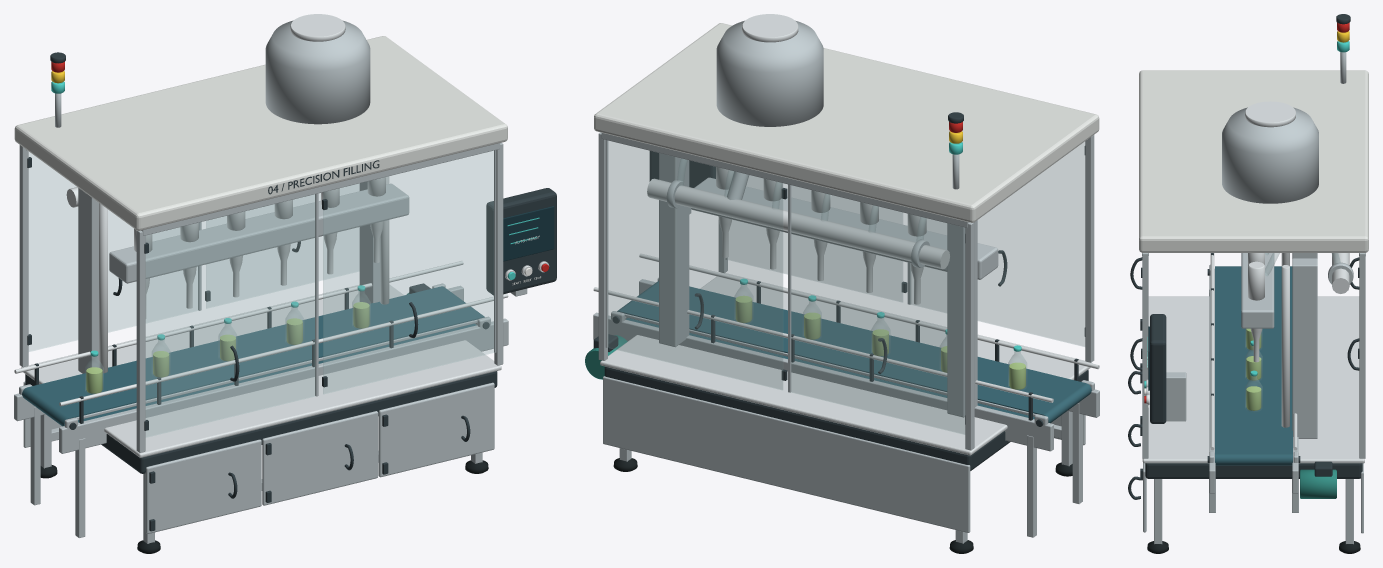
The model's file is filler.glb.
3 renders of one model, left to right at view 1: azimuth 30°, elevation 25°; view 2: azimuth 150°, elevation 25°; view 3: azimuth 270°, elevation 25°, orthographic. The views are drawn at different scales.
Visible parts, largest first — view 1: Crown fascia.002, Polycarbonate safety door.009, Polycarbonate safety door.008, Filler top, Continuous hygienic PU belt.014, Polycarbonate safety door.010, Nozzle carrier, Buffer tank, Filler access door.001, Filler access door.002, Filler access door, Polycarbonate safety door.011 (+19 smaller); view 2: Crown fascia.002, Polycarbonate safety door.011, Polycarbonate safety door.010, Filler rear, Filler top, Polycarbonate safety door.008, Continuous hygienic PU belt.014, Buffer tank, Polycarbonate safety door.009, Folded side channel.007, Product manifold, Precision axis column.001 (+19 smaller); view 3: Crown fascia.002, Filler top, Continuous hygienic PU belt.014, Buffer tank, Precision axis column.001, Filler chassis, Filler HMI controller, Nozzle carrier, Linear bearing shaft.001, Guard extrusion.011, Guard extrusion.010, Tank access cap (+12 smaller).
Part boxes in pixels (x1,y1,x2,y2): Crown fascia.002: (14, 36, 507, 230); Polycarbonate safety door.009: (323, 151, 494, 394); Polycarbonate safety door.008: (146, 194, 315, 437); Filler top: (21, 284, 501, 457); Continuous hygienic PU belt.014: (22, 286, 484, 426); Polycarbonate safety door.010: (29, 152, 198, 351); Nozzle carrier: (109, 183, 409, 283); Buffer tank: (265, 20, 370, 124); Filler access door.001: (262, 411, 378, 505); Filler access door.002: (378, 382, 494, 477); Filler access door: (145, 439, 261, 533); Polycarbonate safety door.011: (206, 184, 359, 308); Crown fascia.002: (594, 23, 1099, 222); Polycarbonate safety door.011: (608, 141, 782, 390); Polycarbonate safety door.010: (791, 185, 964, 434); Filler rear: (603, 376, 970, 532); Filler top: (600, 273, 1092, 455); Polycarbonate safety door.008: (911, 142, 1084, 346); Continuous hygienic PU belt.014: (617, 281, 1091, 423); Buffer tank: (716, 20, 823, 126); Polycarbonate safety door.009: (728, 175, 902, 302); Folded side channel.007: (593, 312, 1053, 451); Product manifold: (647, 178, 949, 268); Precision axis column.001: (659, 153, 689, 346); Crown fascia.002: (1139, 70, 1368, 252); Filler top: (1142, 296, 1364, 463); Continuous hygienic PU belt.014: (1215, 266, 1292, 465); Buffer tank: (1222, 107, 1318, 203); Precision axis column.001: (1292, 258, 1317, 438); Filler chassis: (1145, 463, 1362, 478); Filler HMI controller: (1150, 314, 1166, 423); Nozzle carrier: (1241, 253, 1274, 328); Linear bearing shaft.001: (1281, 265, 1289, 427); Guard extrusion.011: (1359, 253, 1365, 458); Guard extrusion.010: (1142, 253, 1148, 458); Tank access cap: (1245, 101, 1295, 127).
Size of the model in its own units: 3.9 by 3.4 by 1.89.
